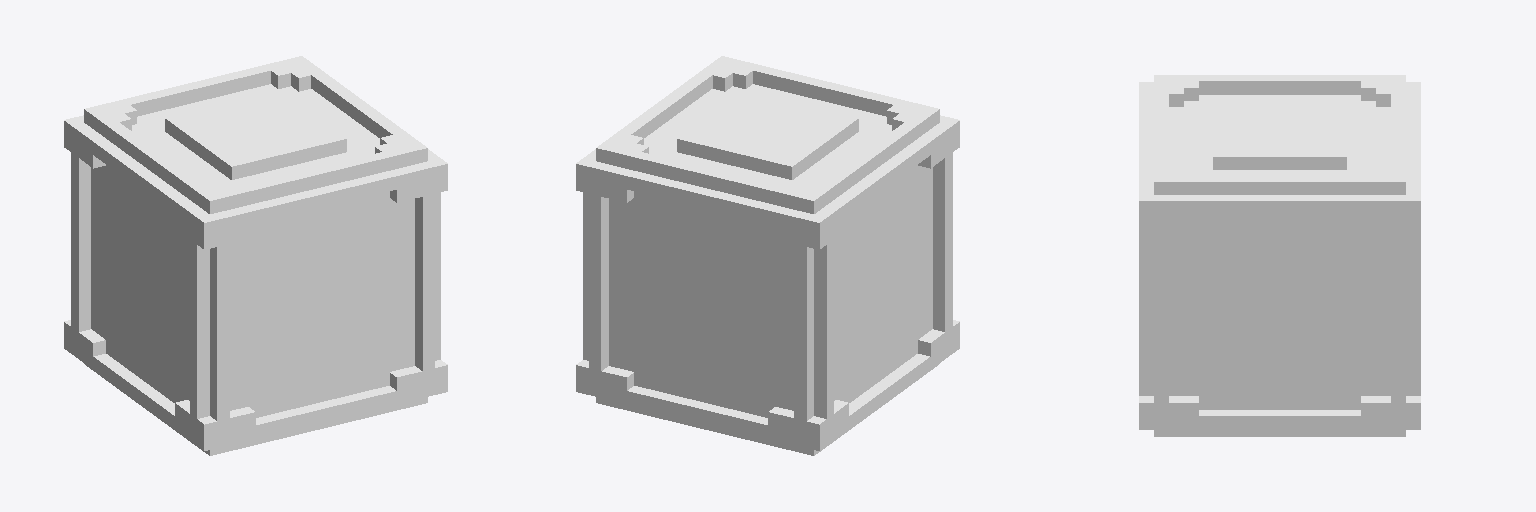
The model's file is Caja.obj.
The picture shows the model from 3 angles: view 1: azimuth 30°, elevation 25°; view 2: azimuth 150°, elevation 25°; view 3: azimuth 270°, elevation 25°; orthographic projection.
Parts seen in each view (by area): view 1: object 1; view 2: object 1; view 3: object 1.
Part boxes in pixels (bbox=[...]): object 1: bbox=[64, 56, 447, 455]; object 1: bbox=[576, 56, 959, 455]; object 1: bbox=[1139, 75, 1420, 436].
Bounding box in the file's own units: 1.9 × 1.9 × 1.9.